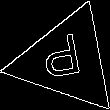P_S: (43, 33, 90, 89)
